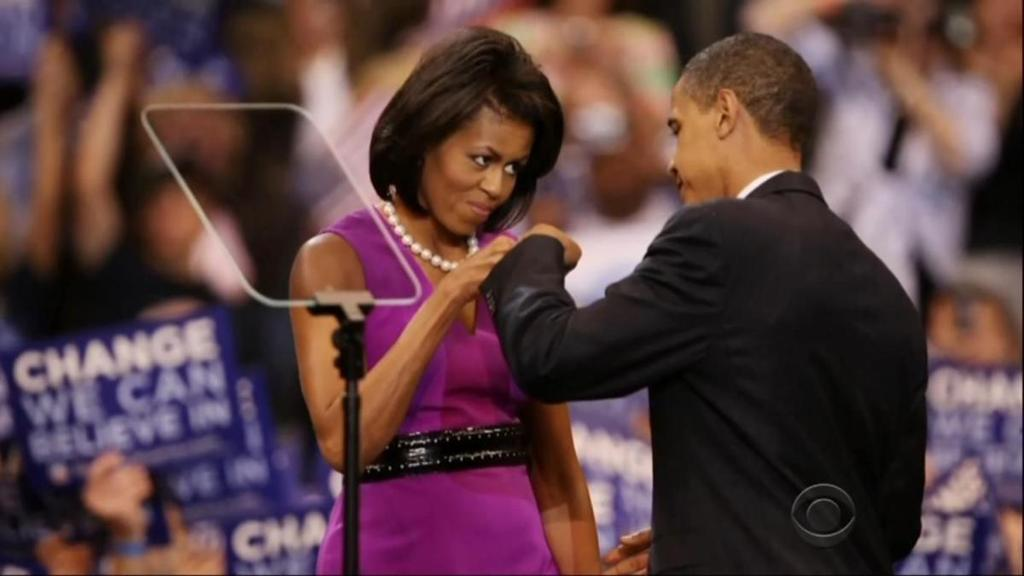face: (666, 48, 746, 212), (440, 110, 528, 238)
